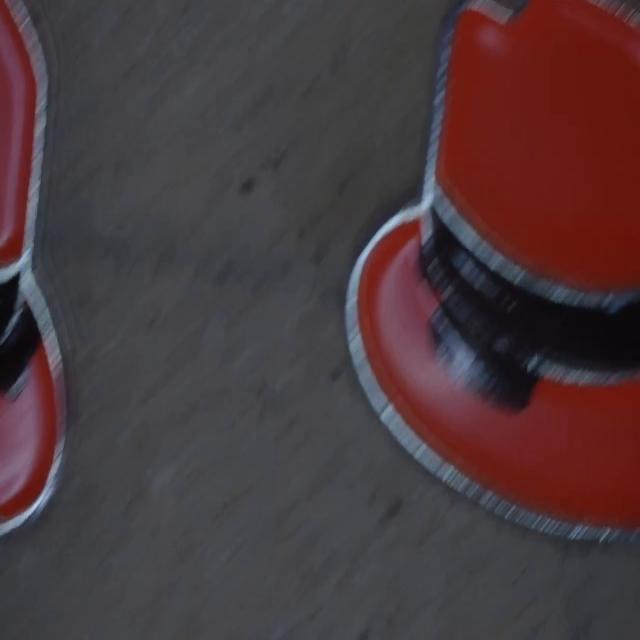Hatband: (422, 184, 640, 384), (0, 247, 31, 341)
Paint_Leak: (431, 307, 534, 408), (0, 302, 41, 392)
RedHatPin: (346, 2, 640, 539), (0, 0, 65, 532)
